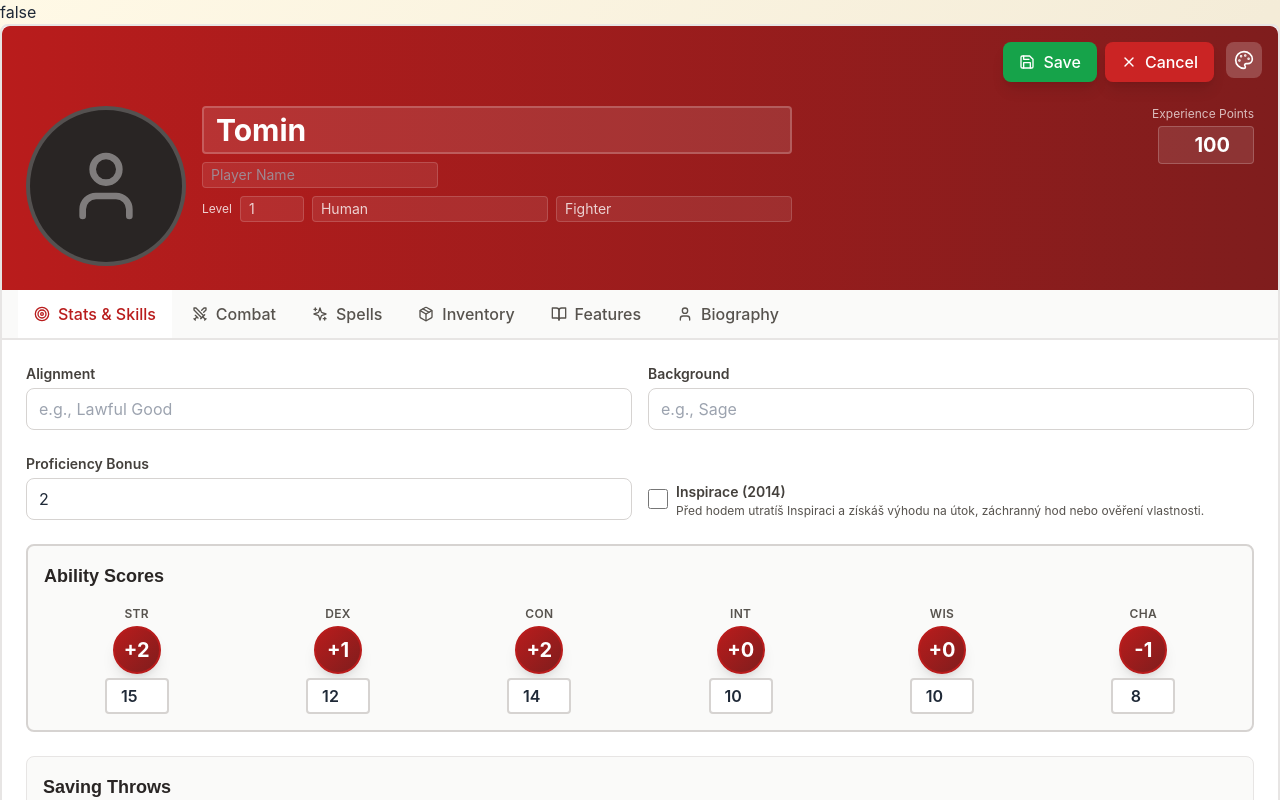
Test: D&D 5e live sync (editor + store + hook) › cancel discards the edits: not dirty any more
Replace the text in the 1st field with placeholder "Character Name" with "Unsaved": (497, 130) [202,106,792,154]
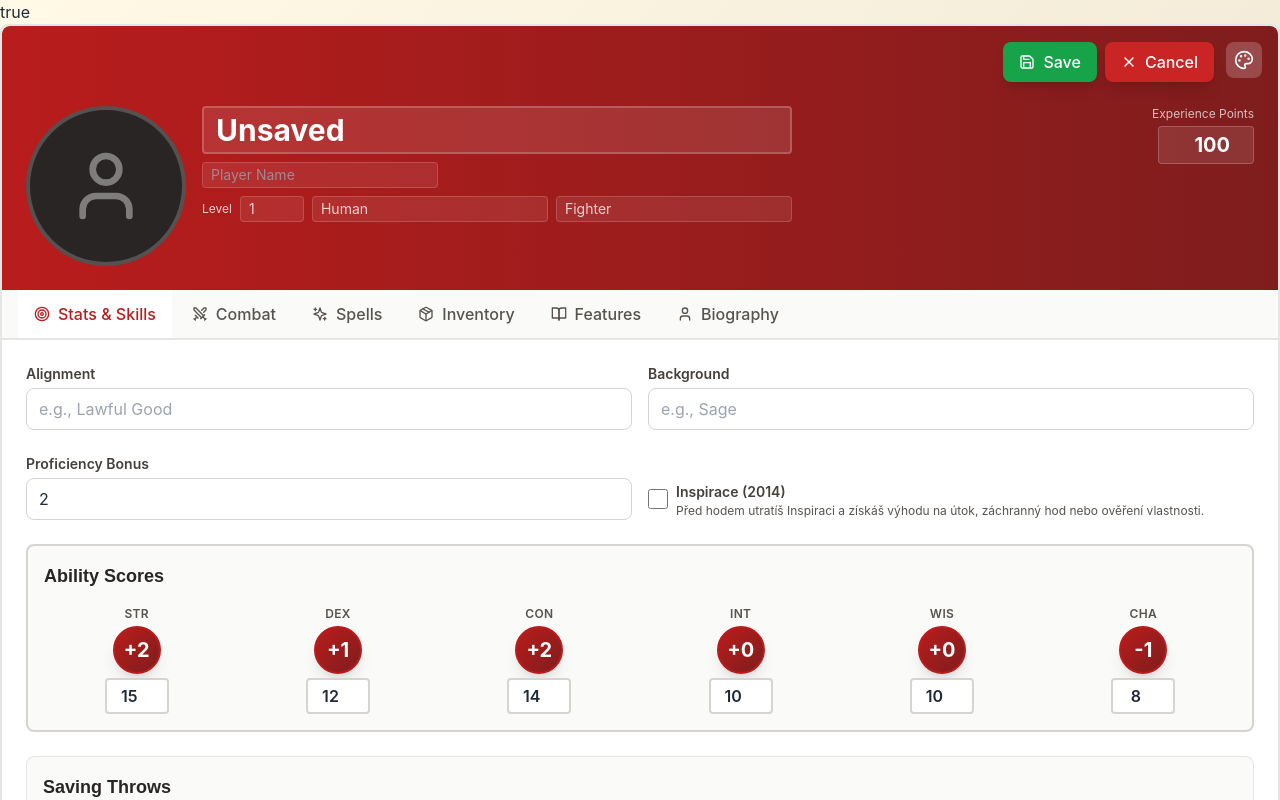
expect the text with test id "dirty" reads "true": met, box [0,2,30,22]
Click the button "Cancel": (1159, 62) [1105,42,1214,82]
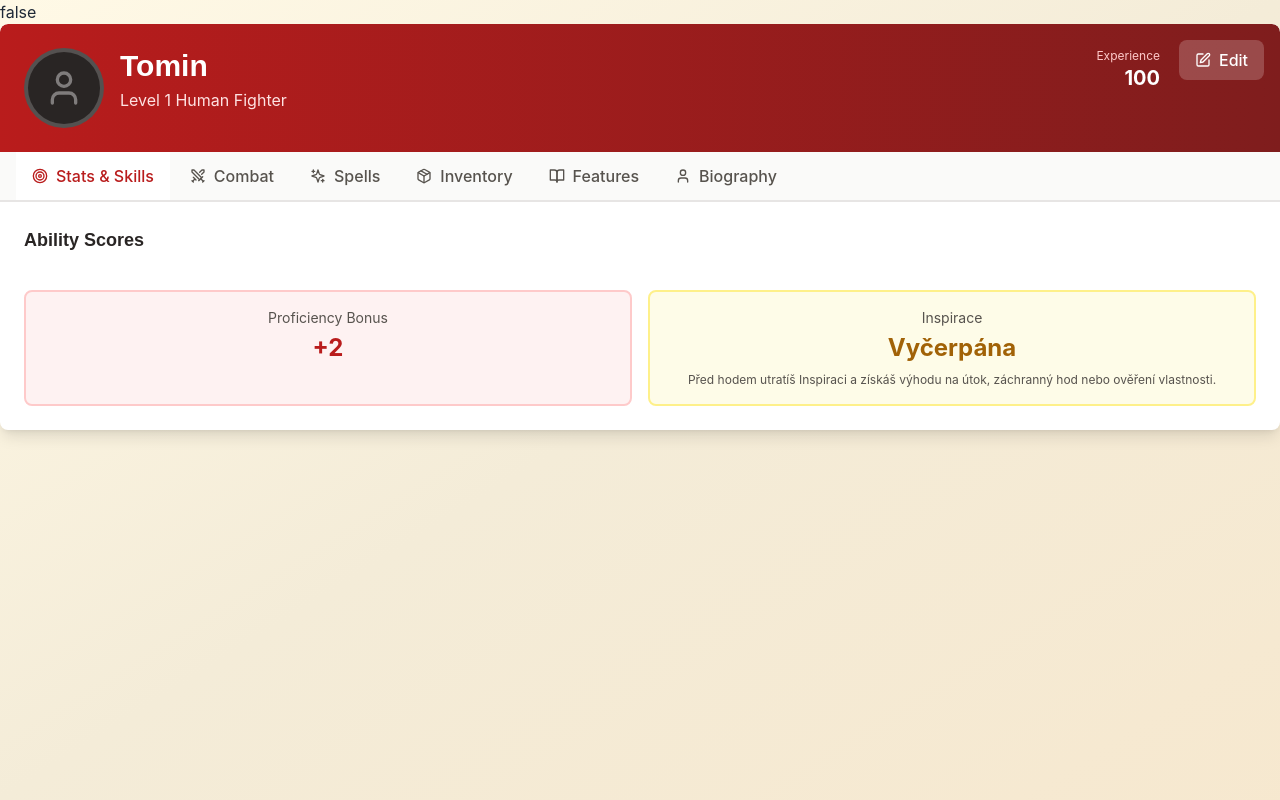
expect the text with test id "dirty" reads "false": met, box [0,2,36,22]
